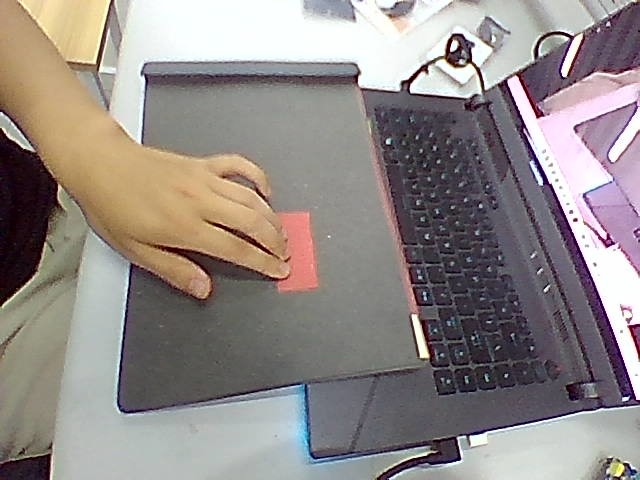card: (278, 211, 318, 290)
